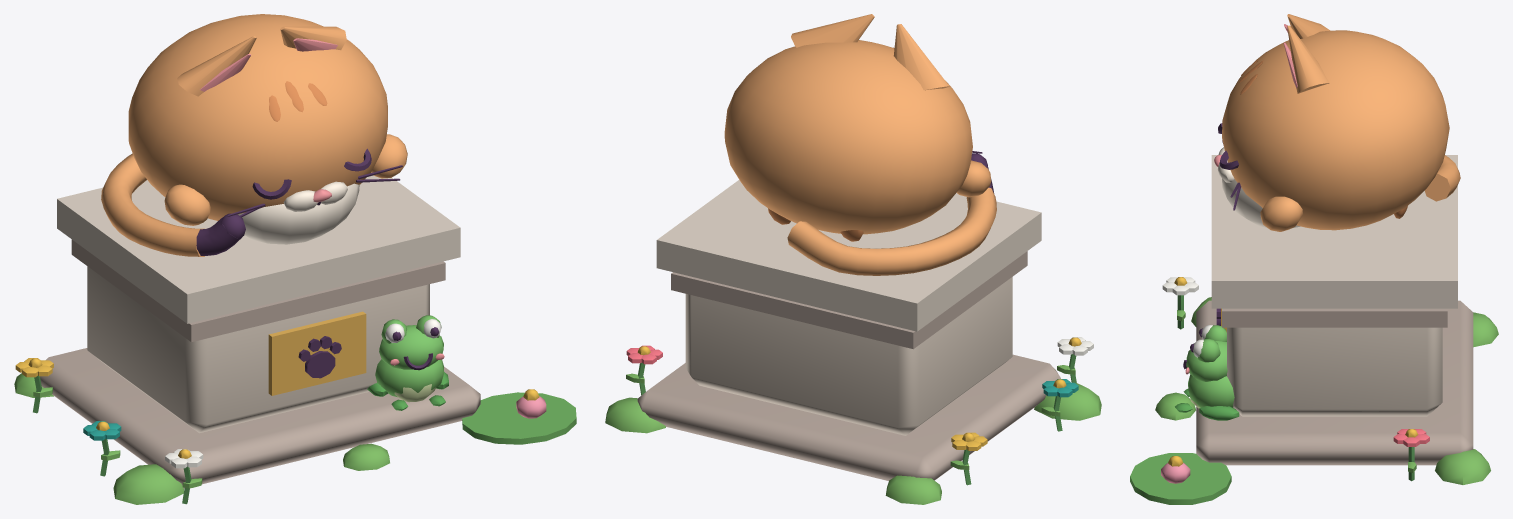
File: statue-of-me.glb
The picture shows the model from 3 angles, left to right: view 1: azimuth 30°, elevation 25°; view 2: azimuth 150°, elevation 25°; view 3: azimuth 270°, elevation 25°; orthographic projection. The views are drawn at different scales.
Parts seen in each view (by area): view 1: statue_of_me; view 2: statue_of_me; view 3: statue_of_me.
Boxes of the visible parts, left/top/right/bottom form: statue_of_me: left=14, top=14, right=576, bottom=504; statue_of_me: left=605, top=14, right=1101, bottom=504; statue_of_me: left=1130, top=14, right=1498, bottom=504.
Size of the model in its own units: 0.9192 by 0.8056 by 0.719.
